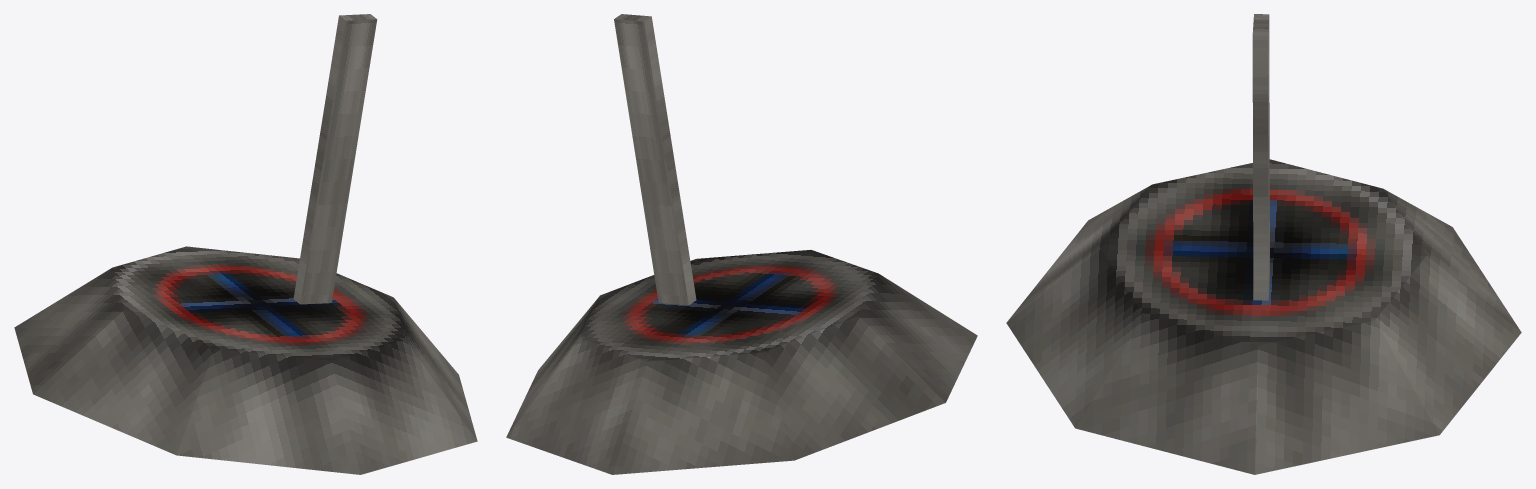
The model's file is RocketPad02.glb.
The picture shows the model from 3 angles, left to right: view 1: azimuth 30°, elevation 25°; view 2: azimuth 150°, elevation 25°; view 3: azimuth 270°, elevation 25°; orthographic projection. The views are drawn at different scales.
Visible parts, largest first — view 1: RocketPad02; view 2: RocketPad02; view 3: RocketPad02.
Boxes of the visible parts, x1,y1,x2,y2 form: RocketPad02: (14, 14, 477, 474); RocketPad02: (506, 14, 977, 474); RocketPad02: (1006, 14, 1521, 474).
Size of the model in its own units: 221 by 193 by 224.
Materials: 1 (1 with a texture image).
